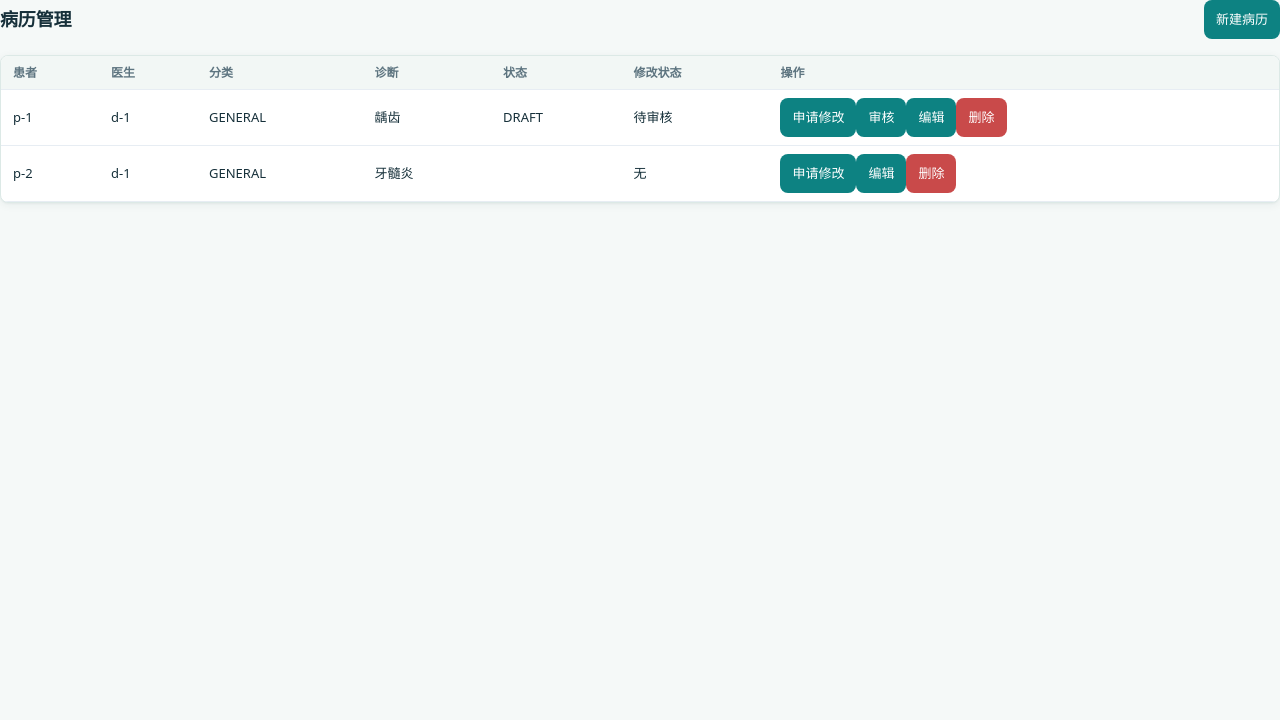
MedicalRecordsPage › reviews a pending edit request and approves it
Expected: the text "龋齿" is shown, x1=362 y1=90 x2=491 y2=146
Click the button "审核" at (882, 118), box x1=856 y1=98 x2=906 y2=137
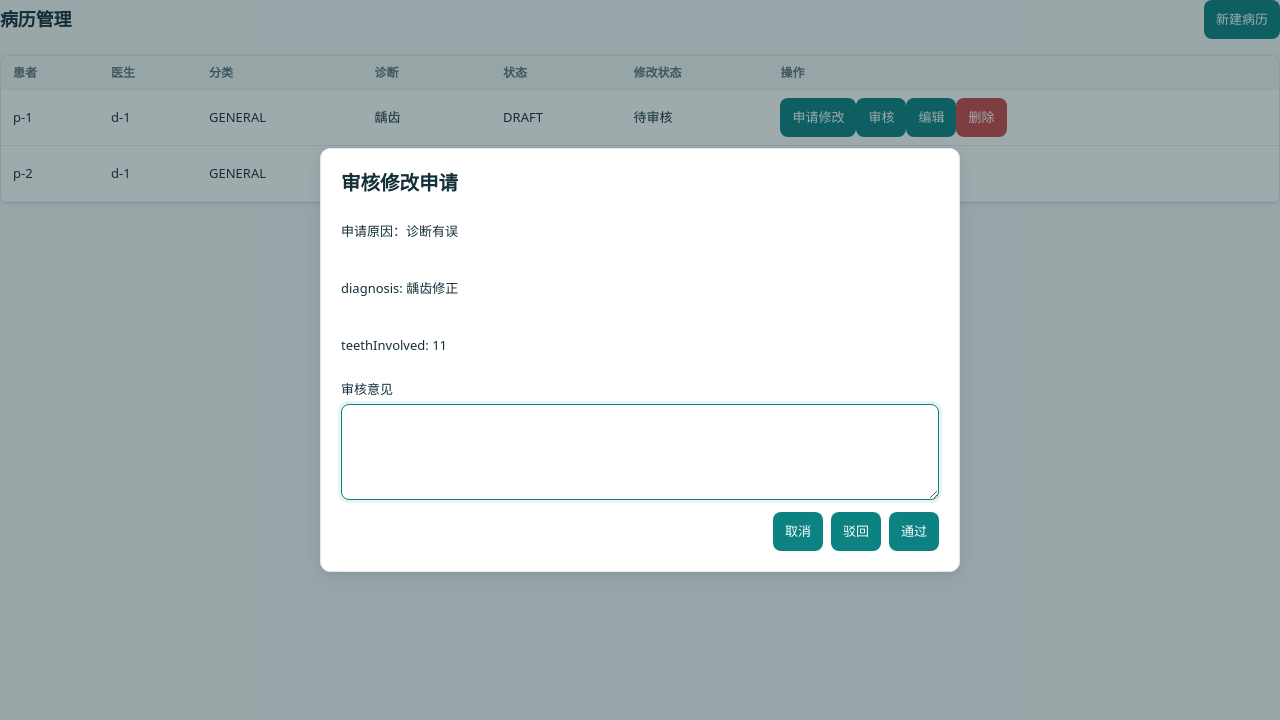
Result: the text "申请原因：诊断有误" is shown at x1=341 y1=222 x2=458 y2=240
Result: the text "diagnosis: 龋齿修正" is shown at x1=341 y1=279 x2=458 y2=297
Result: the text "teethInvolved: 11" is shown at x1=341 y1=336 x2=447 y2=354
Click the button "通过" at (914, 532), box x1=889 y1=512 x2=939 y2=551
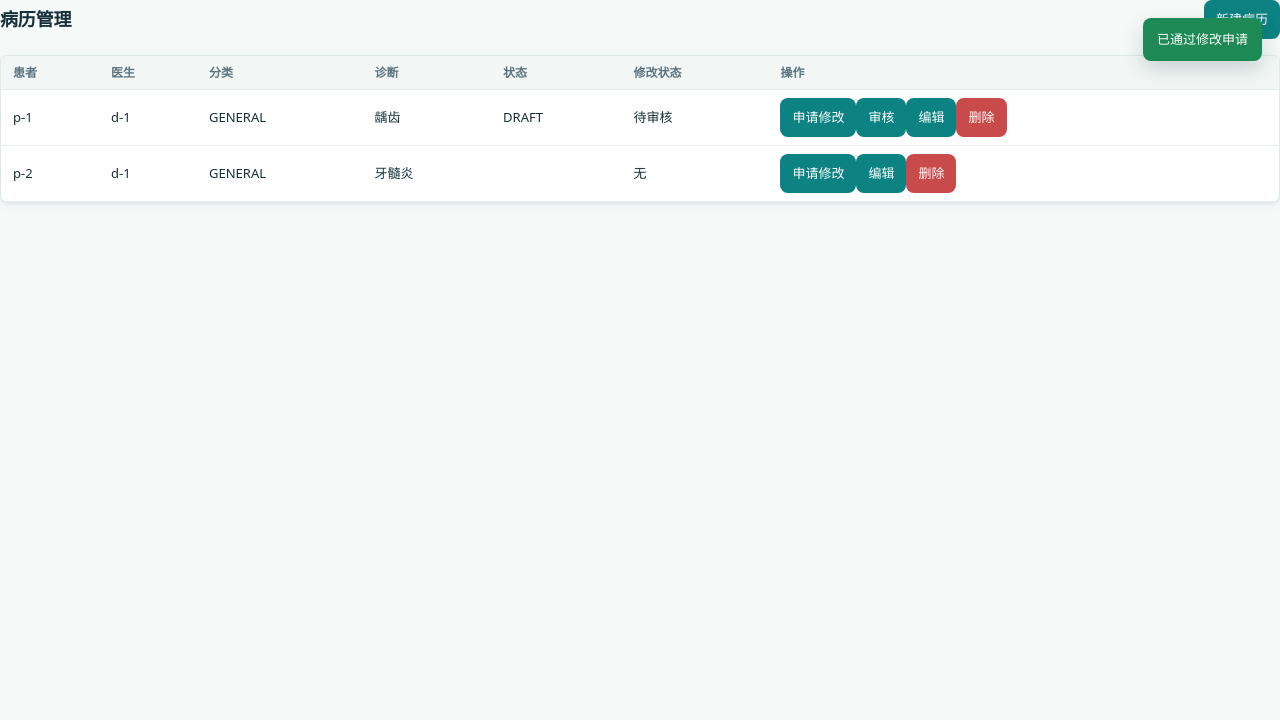
Result: the text "已通过修改申请" is shown at x1=1143 y1=18 x2=1262 y2=61
